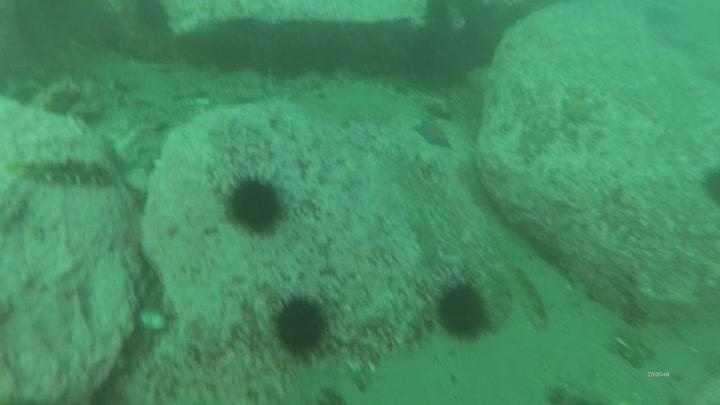echinus: (222, 172, 287, 237), (270, 292, 333, 359), (432, 277, 495, 343), (131, 1, 172, 34), (699, 164, 720, 206)
holothurian: (8, 152, 116, 191), (507, 263, 551, 330)
starfish: (412, 116, 454, 151), (559, 91, 599, 126)
